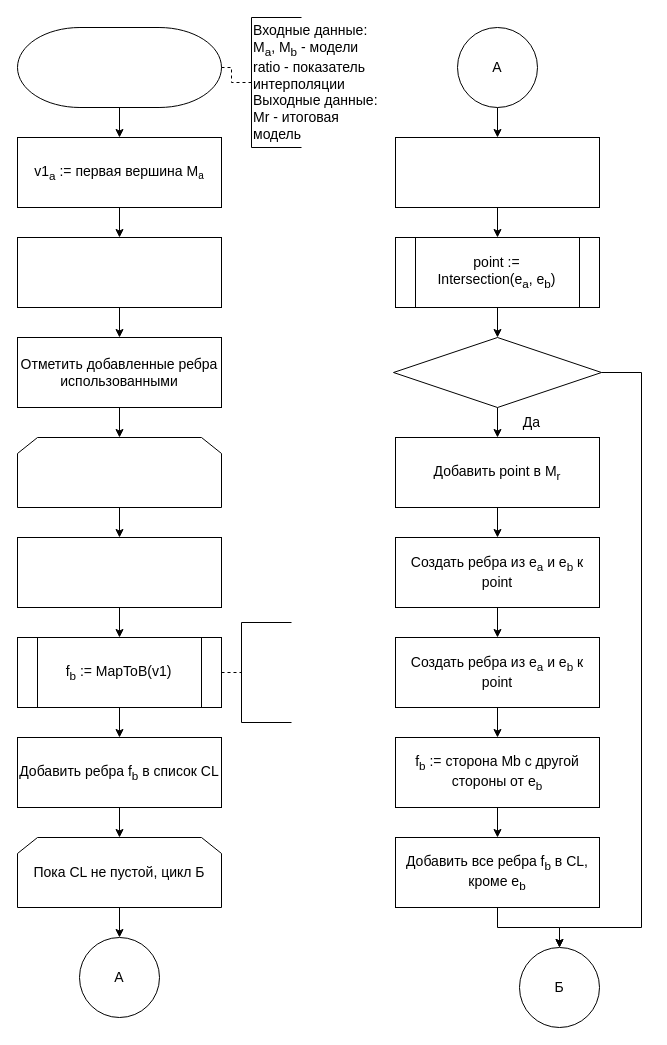
Image size: 667x1045. Some labels were removed from this diagram. The centre of each missing label's shape, as x and y in pixels:
"e a := следующее ребро WL v1, v2 - вершины e a" goes at [119,572].
"e b := следующее ребро CL" goes at [497,172].
"MapToB(v a ) возвращает сторону проекции M b , которая содержит проекцию v a" goes at [266,672].
"point не NULL?" goes at [497,372].
"Добавить ребра, инцидентные v1 a , в список WL" goes at [119,272].
"Начало" goes at [119,67].
"Пока WL не пустой, цикл А" goes at [119,472].
